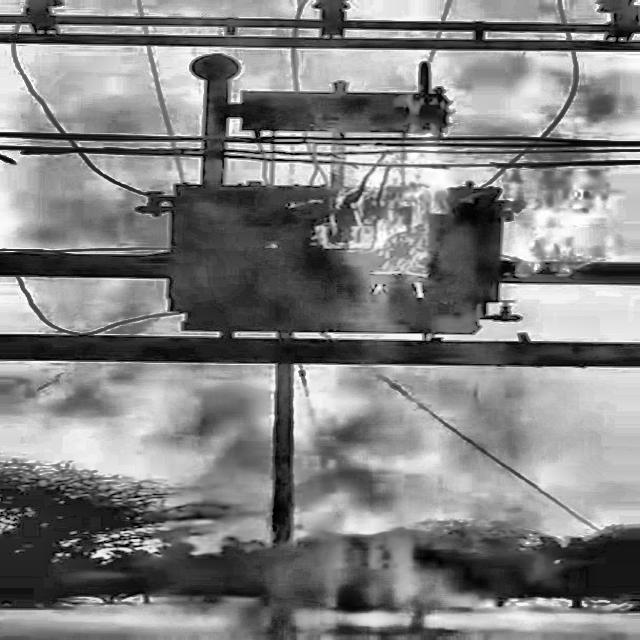Fire: (259, 66, 629, 338)
